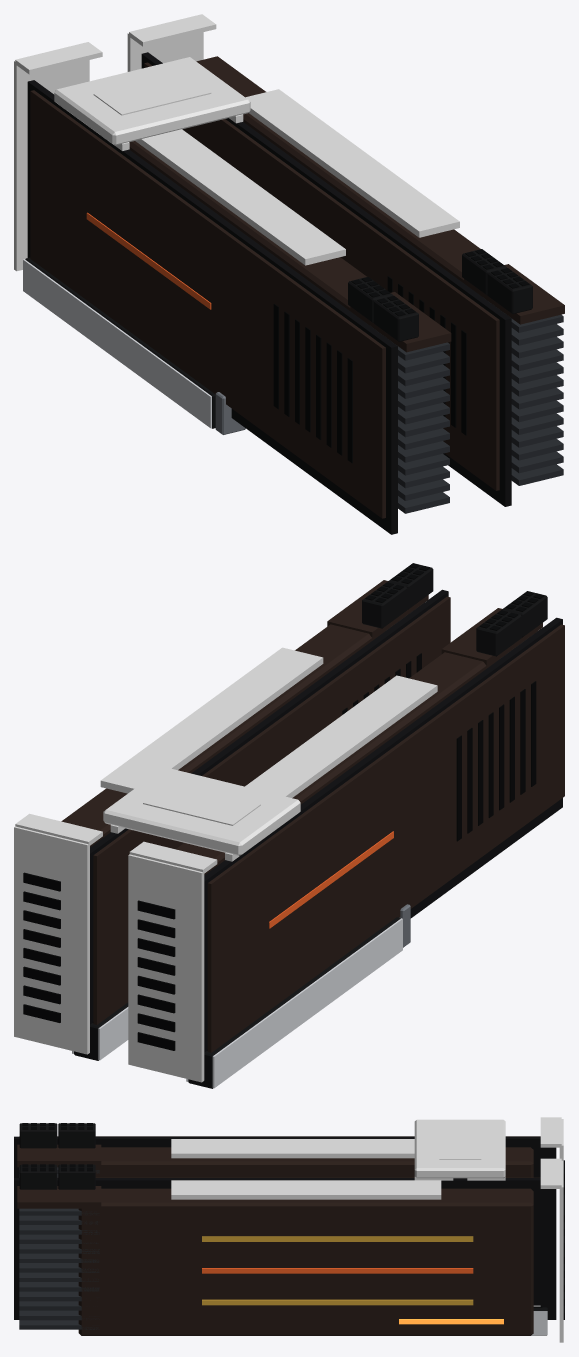
File: hwm_gpu_mi210.glb
3 views of the same model, one above another, from view 1: azimuth 30°, elevation 25°; view 2: azimuth 150°, elevation 25°; view 3: azimuth 270°, elevation 25° (orthographic). The views are drawn at different scales.
Parts seen in each view (by area): view 1: Card_0, Card_1, Bridge, Slot_0; view 2: Card_0, Card_1, Bridge, Slot_0, Slot_1; view 3: Card_1, Card_0, Bridge, Slot_1.
Part boxes in pixels (left/top/right/bottom): Card_0: left=14, top=42, right=451, bottom=534; Card_1: left=127, top=14, right=564, bottom=506; Bridge: left=54, top=57, right=250, bottom=145; Slot_0: left=23, top=257, right=245, bottom=434; Card_0: left=128, top=591, right=564, bottom=1082; Card_1: left=14, top=563, right=450, bottom=1054; Bridge: left=103, top=767, right=300, bottom=856; Slot_0: left=186, top=904, right=410, bottom=1088; Slot_1: left=72, top=1002, right=128, bottom=1060; Card_1: left=14, top=1158, right=564, bottom=1342; Card_0: left=14, top=1117, right=564, bottom=1201; Bridge: left=414, top=1119, right=505, bottom=1178; Slot_1: left=531, top=1306, right=547, bottom=1335.
Size of the model in its own units: 0.093 by 0.1076 by 0.3149.
